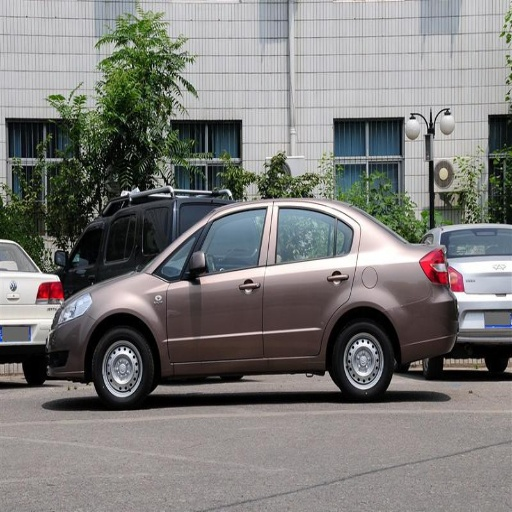_background_: (457, 285, 511, 328)
back_bumper: (397, 287, 511, 361)
back_left_door: (262, 204, 356, 357)
front_left_door: (168, 206, 272, 363)
tailgate: (447, 231, 510, 294)
